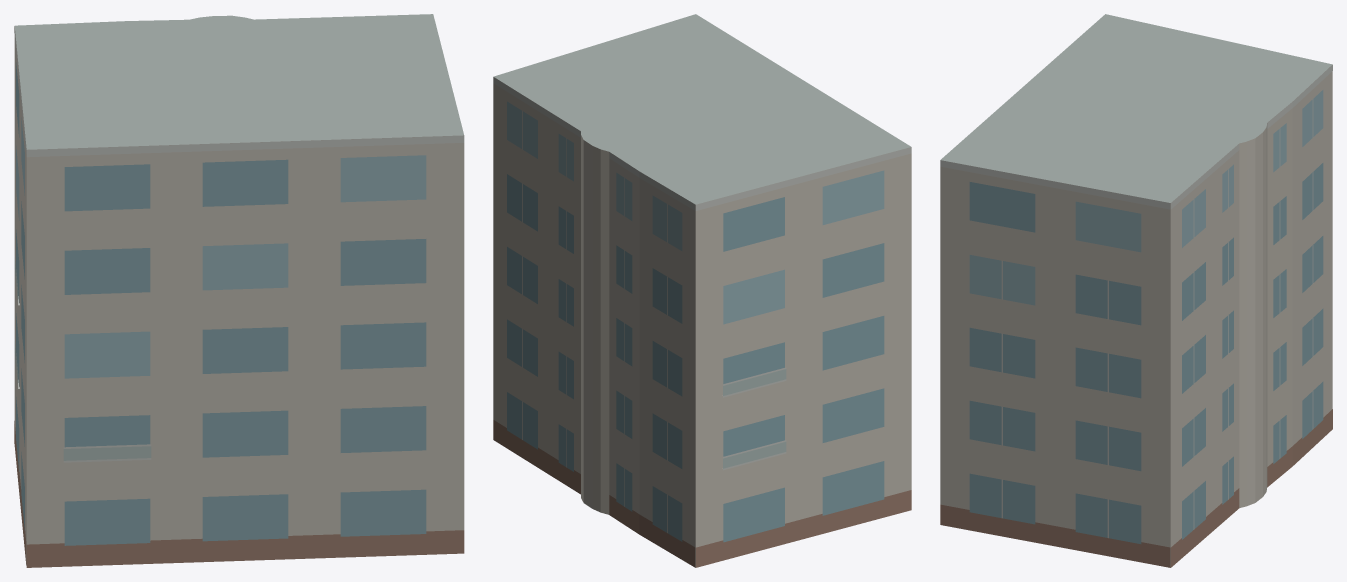
Rendered from survey-upis-32733082.glb.
3 renders of one model, left to right at view 1: azimuth 30°, elevation 25°; view 2: azimuth 150°, elevation 25°; view 3: azimuth 270°, elevation 25°, orthographic. The views are drawn at different scales.
Visible parts, largest first — view 1: survey-upis-32733082.tmp; view 2: survey-upis-32733082.tmp; view 3: survey-upis-32733082.tmp.
Boxes of the visible parts, x1,y1,x2,y2 form: survey-upis-32733082.tmp: (14,14,464,567); survey-upis-32733082.tmp: (493,14,911,567); survey-upis-32733082.tmp: (940,14,1332,567).
Bounding box in the file's own units: 15.24 × 13.7 × 13.37.
